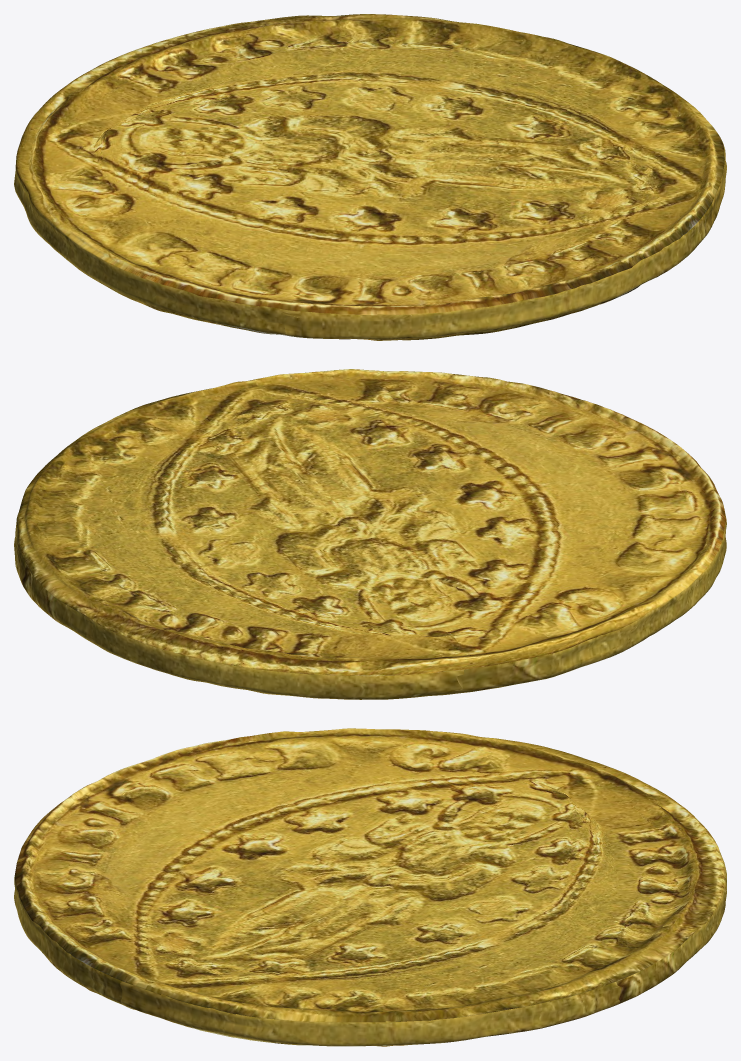
The model's file is item5.glb.
The picture shows the model from 3 angles, top to bottom: view 1: azimuth 30°, elevation 25°; view 2: azimuth 150°, elevation 25°; view 3: azimuth 270°, elevation 25°; orthographic projection.
Visible parts, largest first — view 1: Coin Zecchino Venezia; view 2: Coin Zecchino Venezia; view 3: Coin Zecchino Venezia.
Boxes of the visible parts, bbox=[...] form: Coin Zecchino Venezia: bbox=[14, 14, 726, 340]; Coin Zecchino Venezia: bbox=[14, 369, 726, 699]; Coin Zecchino Venezia: bbox=[14, 728, 726, 1046].
Size of the model in its own units: 0.0451 by 0.00259 by 0.0464.
Materials: 1 (1 with a texture image).
